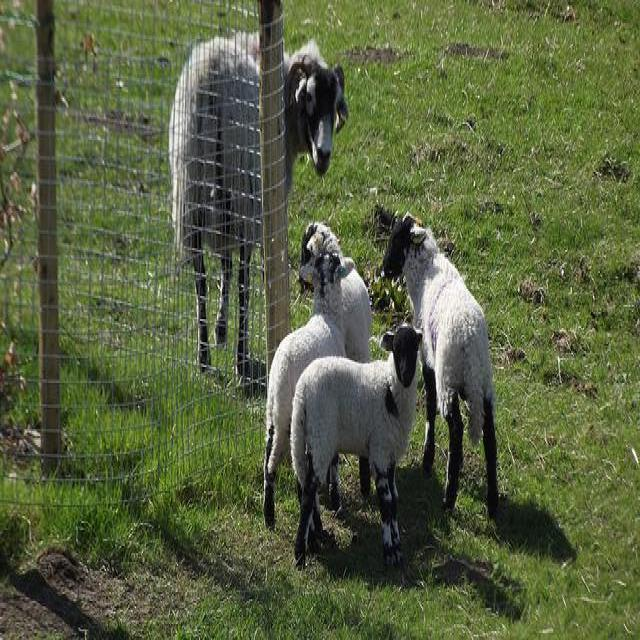Sheep: (167, 30, 350, 376), (385, 215, 497, 520), (289, 325, 422, 576), (264, 223, 352, 523), (298, 220, 373, 363)
